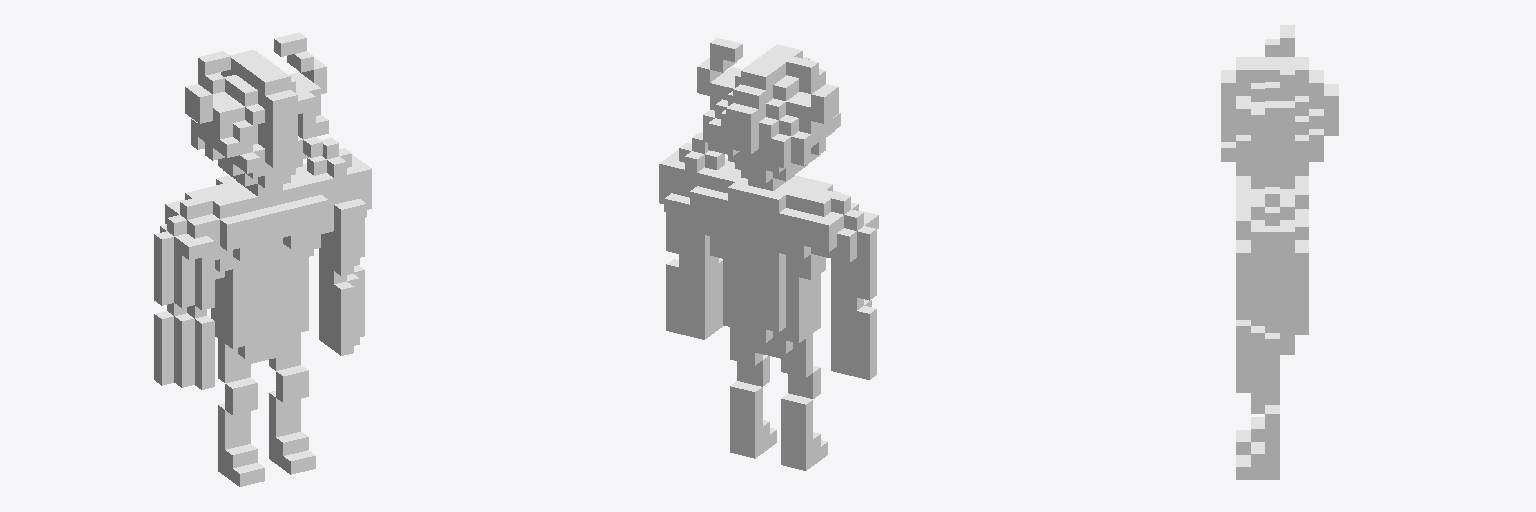
File: voin.obj
3 views of the same model, side by side, from view 1: azimuth 30°, elevation 25°; view 2: azimuth 150°, elevation 25°; view 3: azimuth 270°, elevation 25° (orthographic).
Visible parts, largest first — view 1: object 1; view 2: object 1; view 3: object 1.
Part boxes in pixels (x1,y1,x2,y2): object 1: (154,32,371,486); object 1: (659,38,878,470); object 1: (1221,25,1338,479).
Bounding box in the file's own units: 1.6 × 3.1 × 0.8.